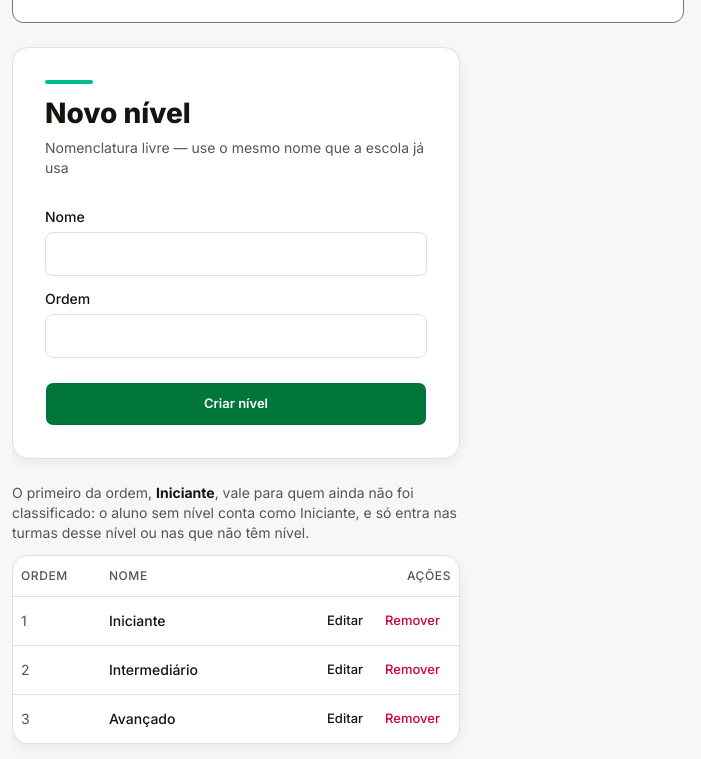
LevelsManager — SPEC-075/D8 › AC-018: a recusa do servidor aparece na tela — a da D12, inteira
(page scrolled)
Click the button "Editar" next to "Intermediário" at (345, 670), box [316, 654, 374, 686]
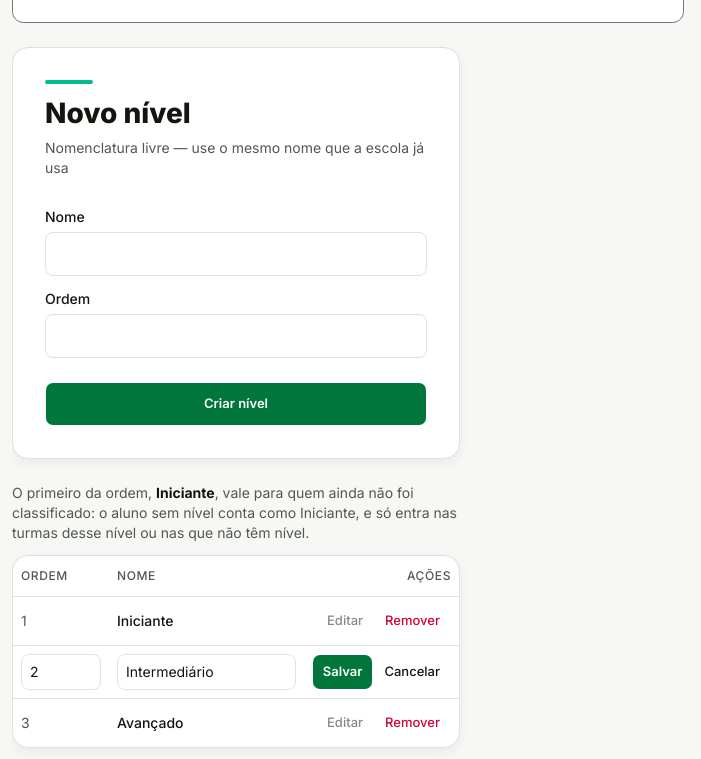
Replace the text in the number field named "Ordem de Intermediário" with "0" at (61, 672), box [21, 654, 101, 690]
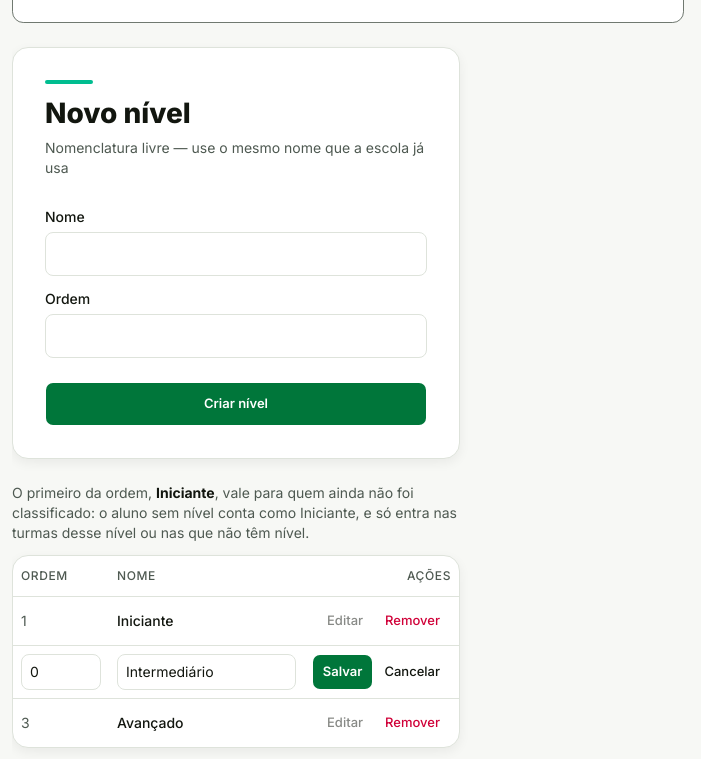
Click the button "Salvar" at (343, 672), box [312, 654, 373, 690]
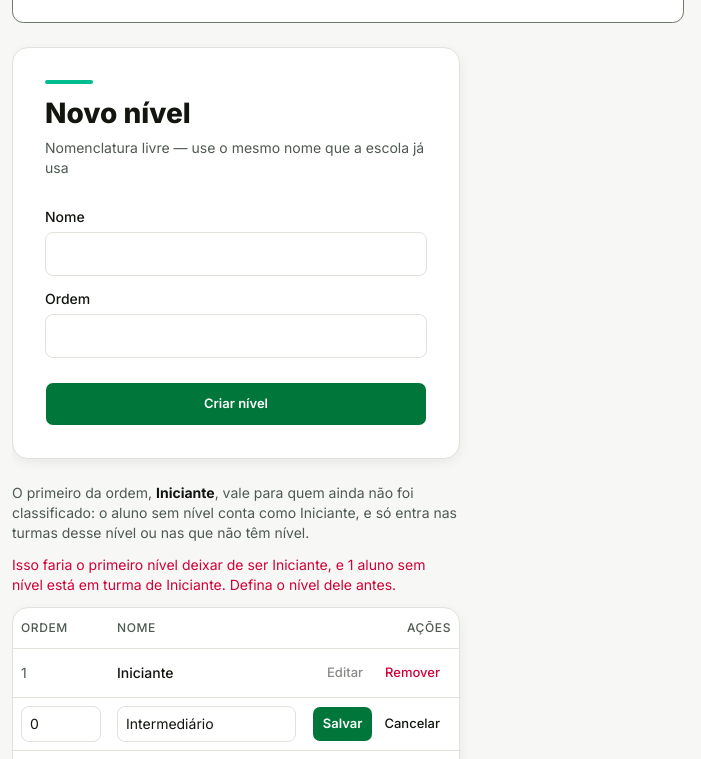
Expected: the message shows "Isso faria o primeiro nível deixar de ser Iniciante, e 1 aluno sem nível está em turma de Iniciante. Defina o nível dele antes.", [12, 556, 425, 593]
